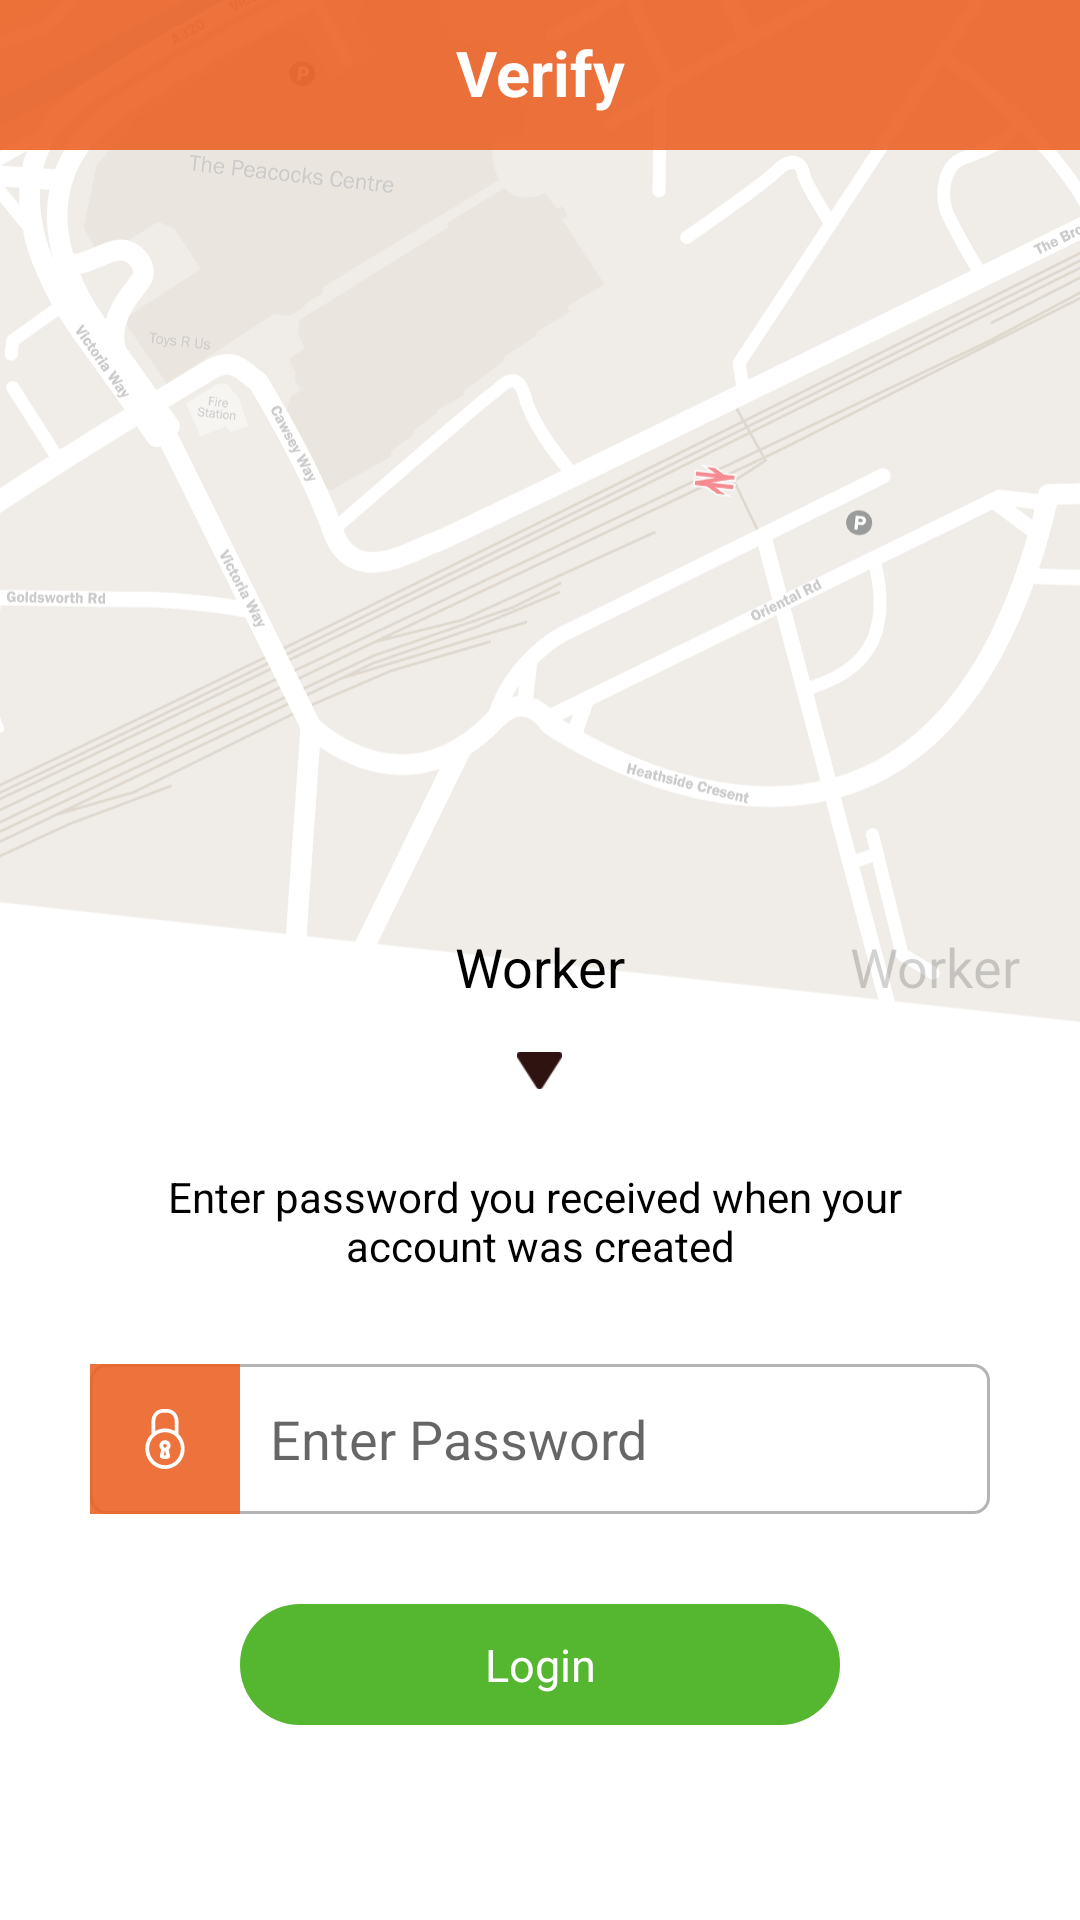

Where to tap for icons on this 1080 x 1920 app screen, as [x,y]:
arrow: [539,1070]
closed lock: [165,1439]
